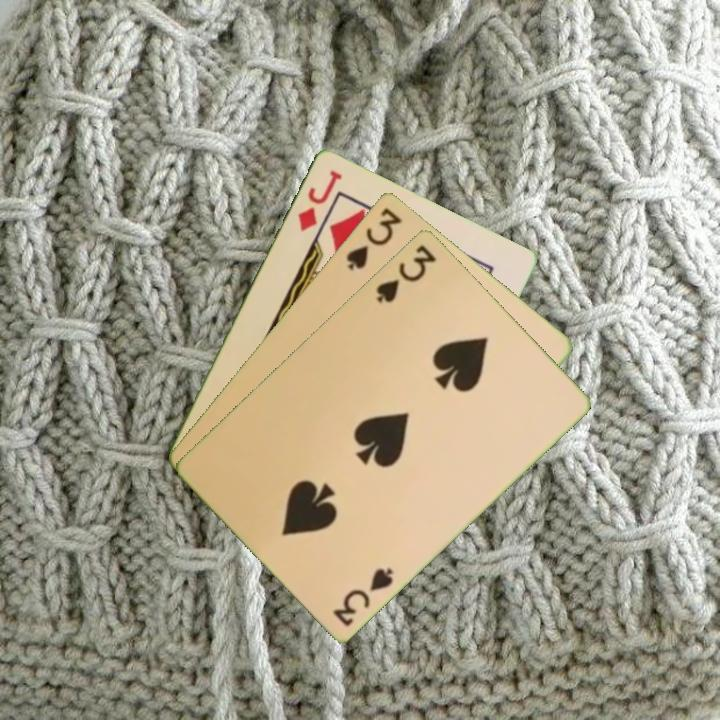3s: (329, 563, 397, 629), (372, 240, 439, 306), (342, 203, 405, 273)
Jd: (294, 166, 345, 234)
